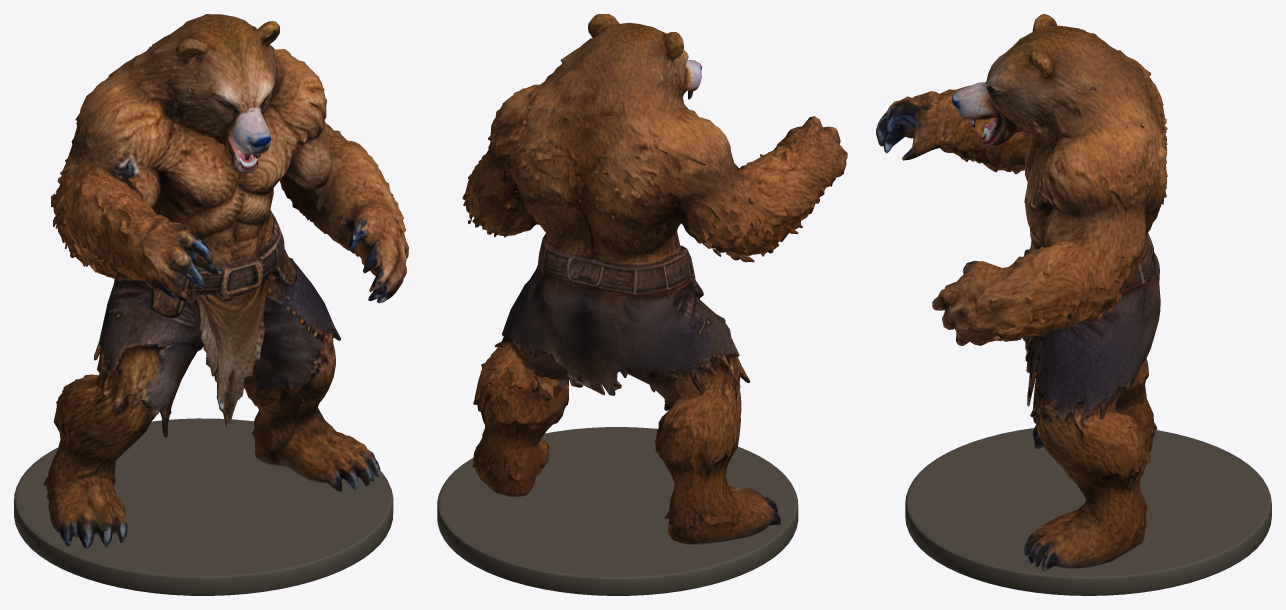
File: werebear.glb
The picture shows the model from 3 angles, left to right: view 1: azimuth 30°, elevation 25°; view 2: azimuth 150°, elevation 25°; view 3: azimuth 270°, elevation 25°; orthographic projection. The views are drawn at different scales.
Visible parts, largest first — view 1: werebear_body, werebear_round_base; view 2: werebear_body, werebear_round_base; view 3: werebear_body, werebear_round_base.
Boxes of the visible parts, x1,y1,x2,y2 form: werebear_body: (43,14,408,548); werebear_round_base: (14,418,393,595); werebear_body: (462,14,847,544); werebear_round_base: (437,427,798,595); werebear_body: (876,14,1167,571); werebear_round_base: (905,428,1271,595).
Bounding box in the file's own units: 0.96 × 1.41 × 1.04.
2 materials, 1 textured.
